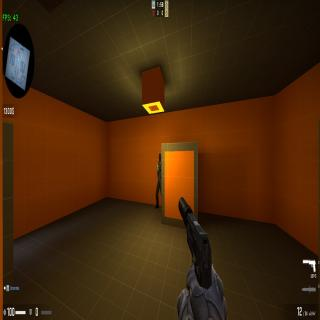T-Body: (155, 153, 162, 210)
T-Head: (158, 153, 162, 163)
